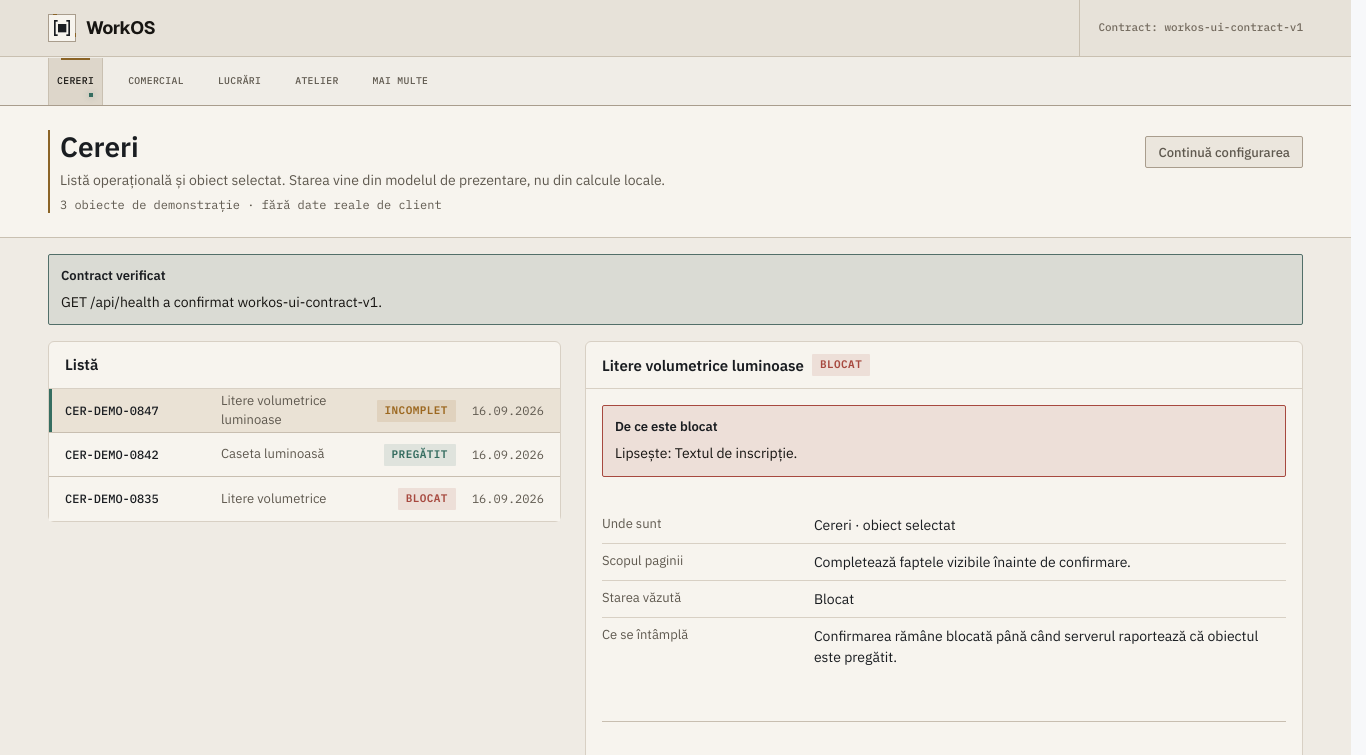
FoundationProofPage › keeps list rows keyboard reachable after a compatible health check
This screenshot has width=1366, height=755.
expect the text "Contract verificat" is shown: met, box [61,267,166,284]
Click the button "CER-DEMO-0842 Caseta luminoasă Pregătit 16.09.2026" at (304, 455), box [49,433,560,477]
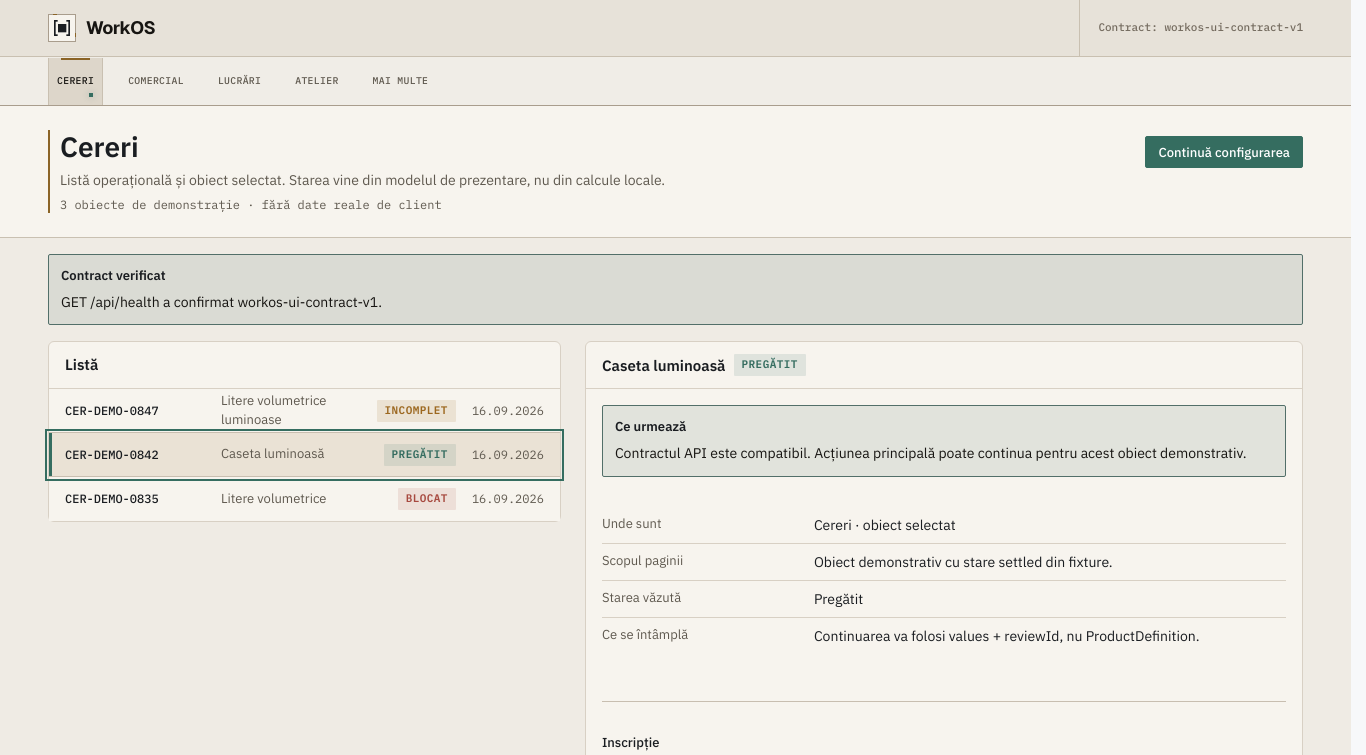
expect the button "Continuă configurarea" is enabled: met, box [1146,130,1303,174]
expect the text "Acțiunea principală poate continua pentru acest obiect demonstrativ" is shown: met, box [615,444,1247,462]
Click the button "CER-DEMO-0835 Litere volumetrice Blocat 16.09.2026" at (304, 499), box [49,477,560,521]
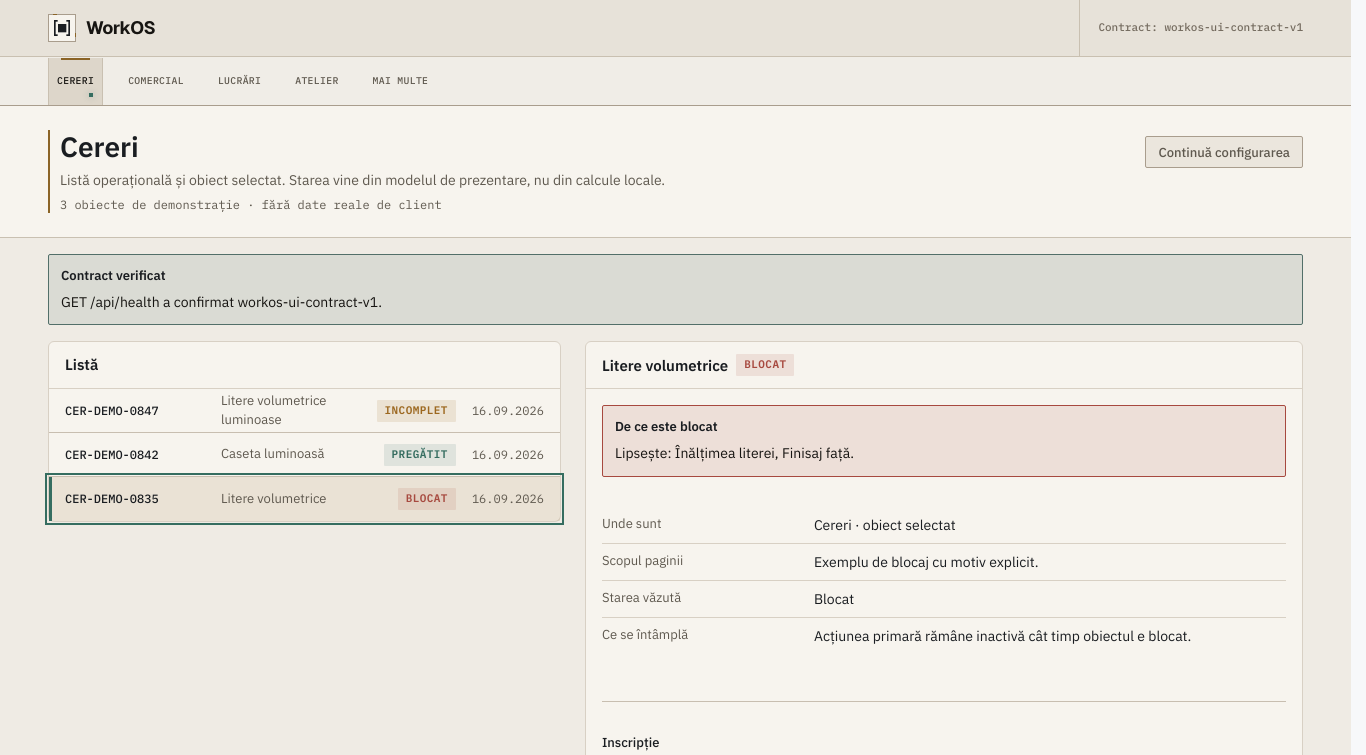
expect the text "Lipsește: Înălțimea literei, Finisaj față." is shown: met, box [615,444,854,462]
